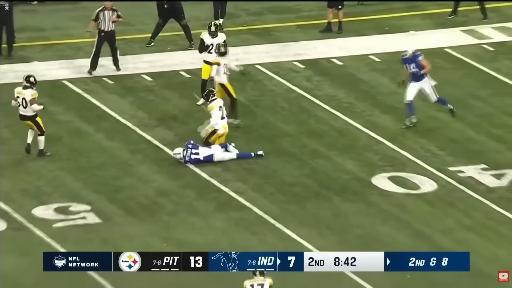Helmet: (23, 75, 37, 88), (203, 89, 217, 102), (208, 22, 219, 37), (215, 43, 227, 56), (173, 148, 184, 160), (402, 49, 415, 57), (252, 271, 265, 278)
Jersey: (183, 141, 221, 164), (201, 32, 226, 62), (402, 52, 426, 82), (211, 57, 238, 83), (15, 87, 37, 115), (208, 99, 227, 130), (244, 277, 273, 287)
Player: (400, 50, 455, 127), (12, 75, 50, 156), (211, 43, 242, 125), (173, 141, 263, 164), (198, 22, 226, 95), (202, 89, 228, 145), (244, 271, 273, 287)
